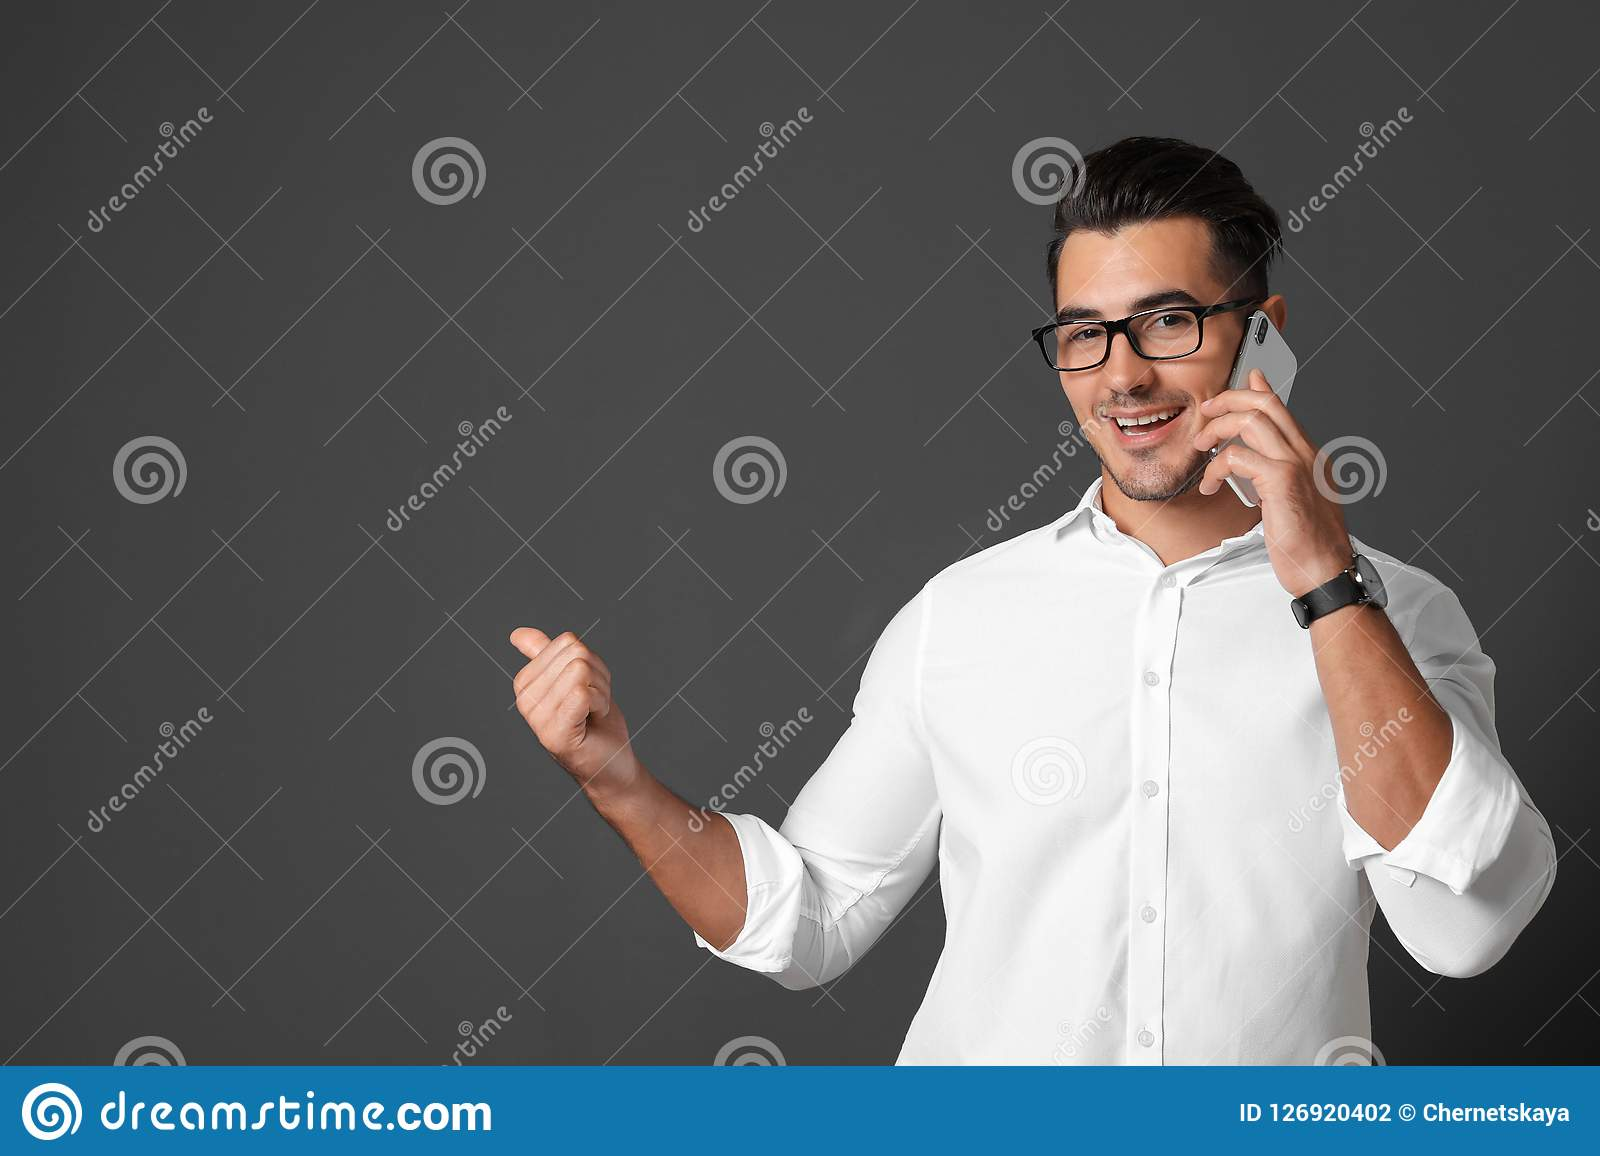phone: (1212, 310, 1298, 514)
talk: (1053, 269, 1361, 603)
